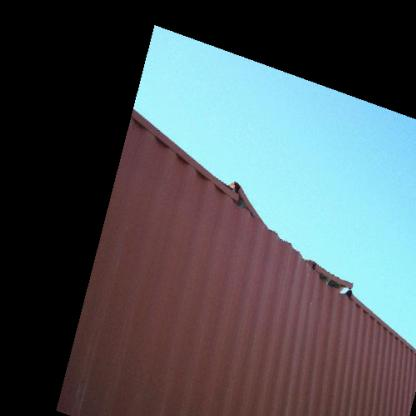Damage: (226, 171, 294, 244), (300, 250, 362, 301)
